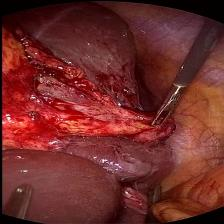Grasper: (146, 82, 186, 128)
